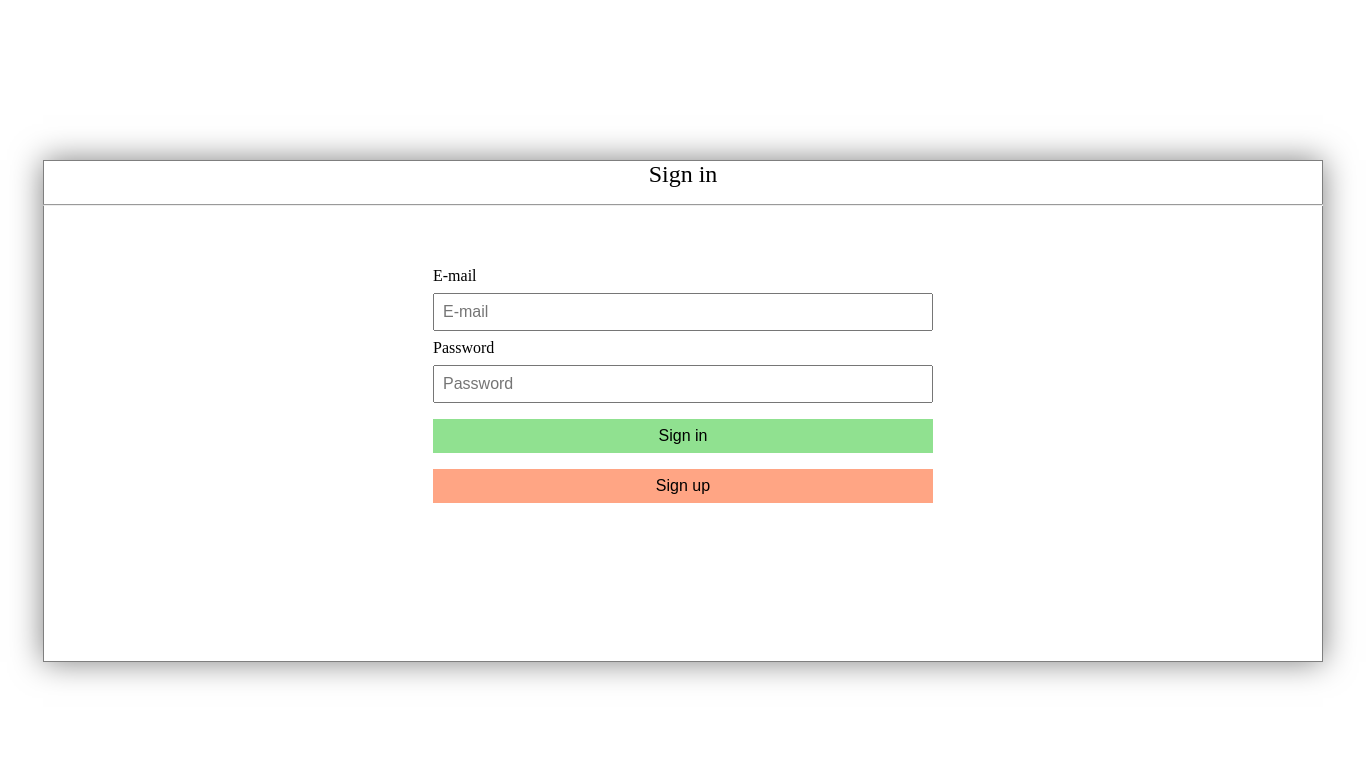
Test: Teste das paginas › Login campos vazios
Click the button with class "form-btn-sign-in" at [683, 436], box [433,419,933,453]
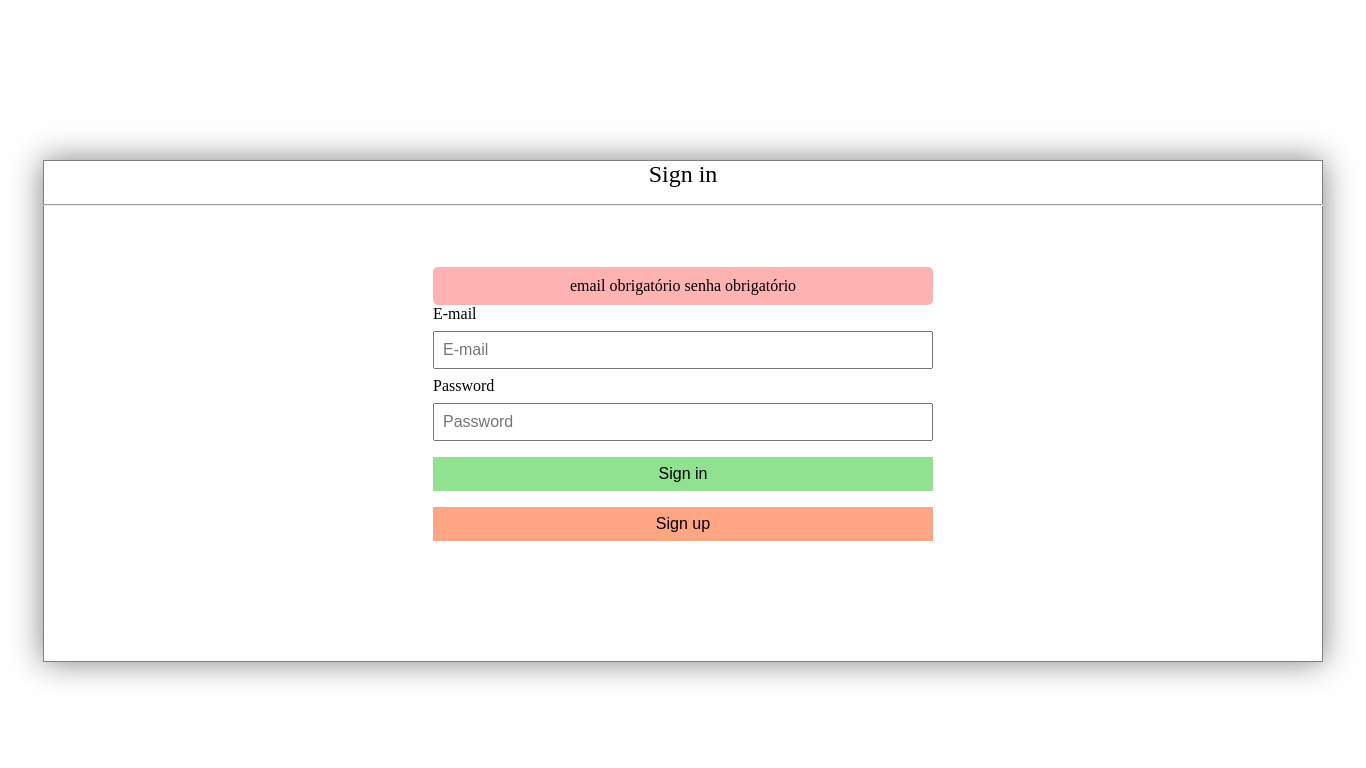
Now the text "email obrigatório senha obrigatório" is shown, box [570,276,796,294]
